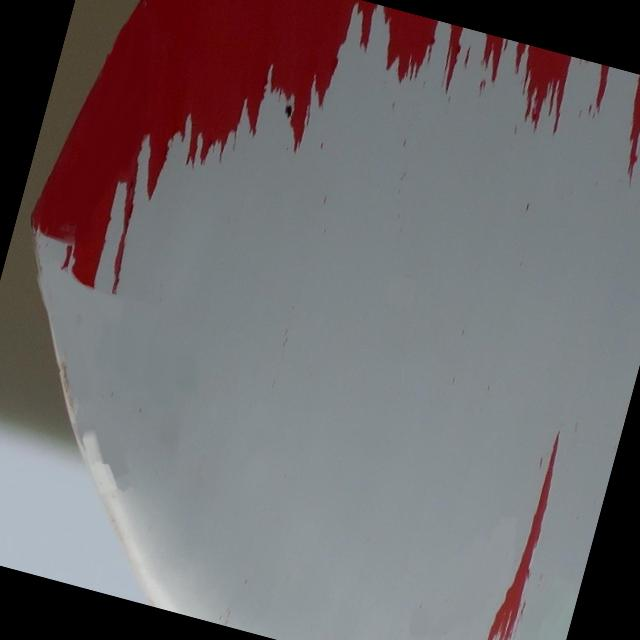surface_peeling: (17, 0, 381, 341), (353, 7, 640, 232), (462, 420, 577, 640)
